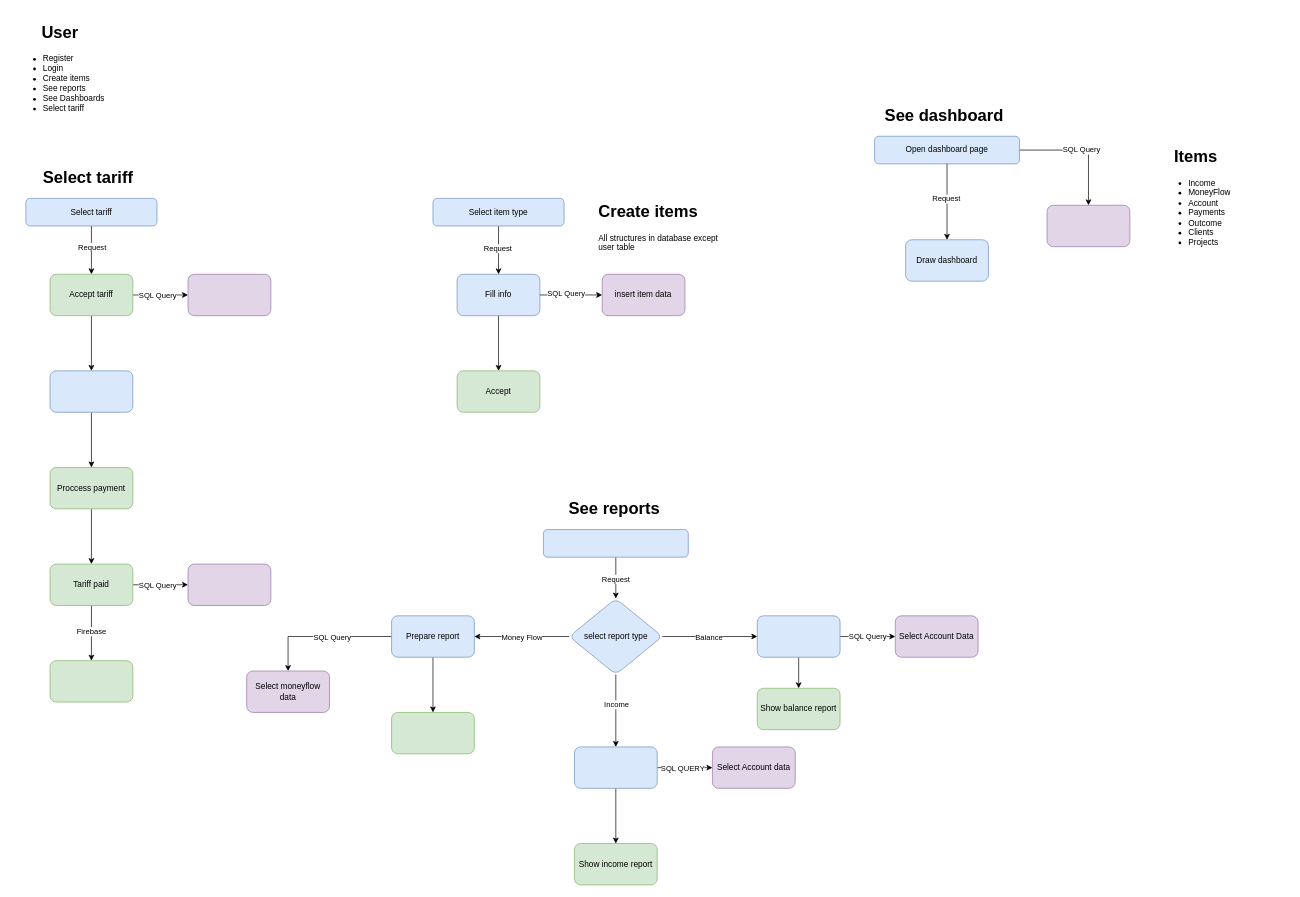
This 1300x897 diagram has some shape labels left out. The shapes that lost their labels are listed below. From the top down, each one's box as (x1, y1, x2, y2) in pixels, then its label:
(1046, 205, 1130, 247): select items data
(187, 274, 271, 316): insert user data
(49, 370, 133, 412): Pay
(543, 529, 688, 557): Open reports page
(187, 563, 271, 605): Update user data
(757, 615, 840, 657): Calculate Balance
(49, 660, 133, 702): Send email notification
(391, 712, 474, 754): Show Money Flow report
(574, 746, 657, 788): Prepare income report
